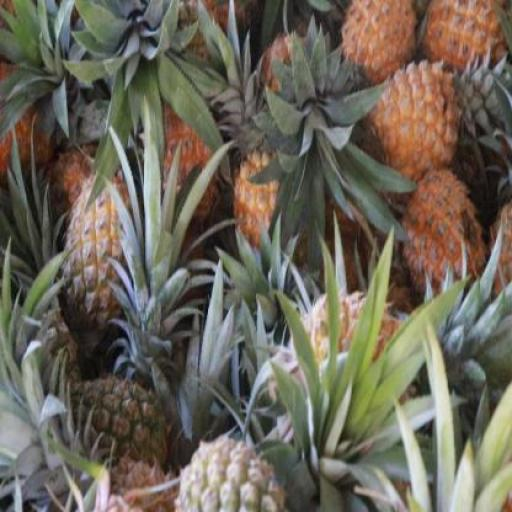------------------------------: (64, 182, 132, 336)
Pineapple - v8 v1: (396, 169, 486, 300), (373, 68, 459, 192), (422, 0, 512, 82), (342, 3, 422, 89)
